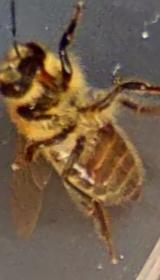varroa_mite: (91, 116, 118, 137)
